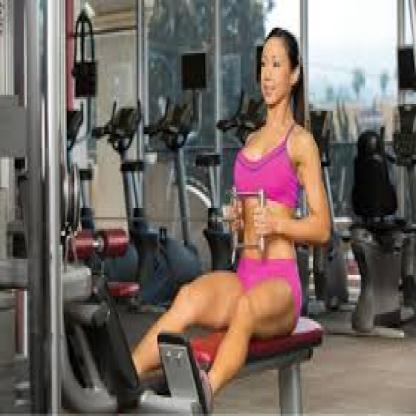Seated Cable Rows: (1, 3, 327, 416)
